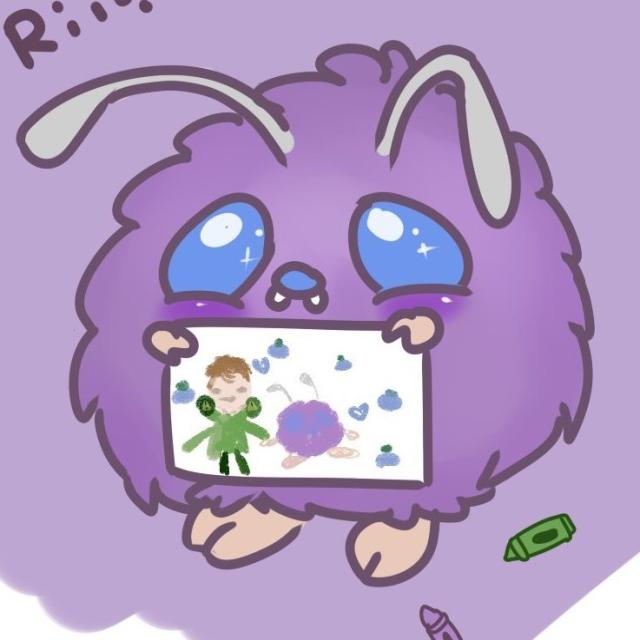Venonat: (79, 49, 591, 557)
